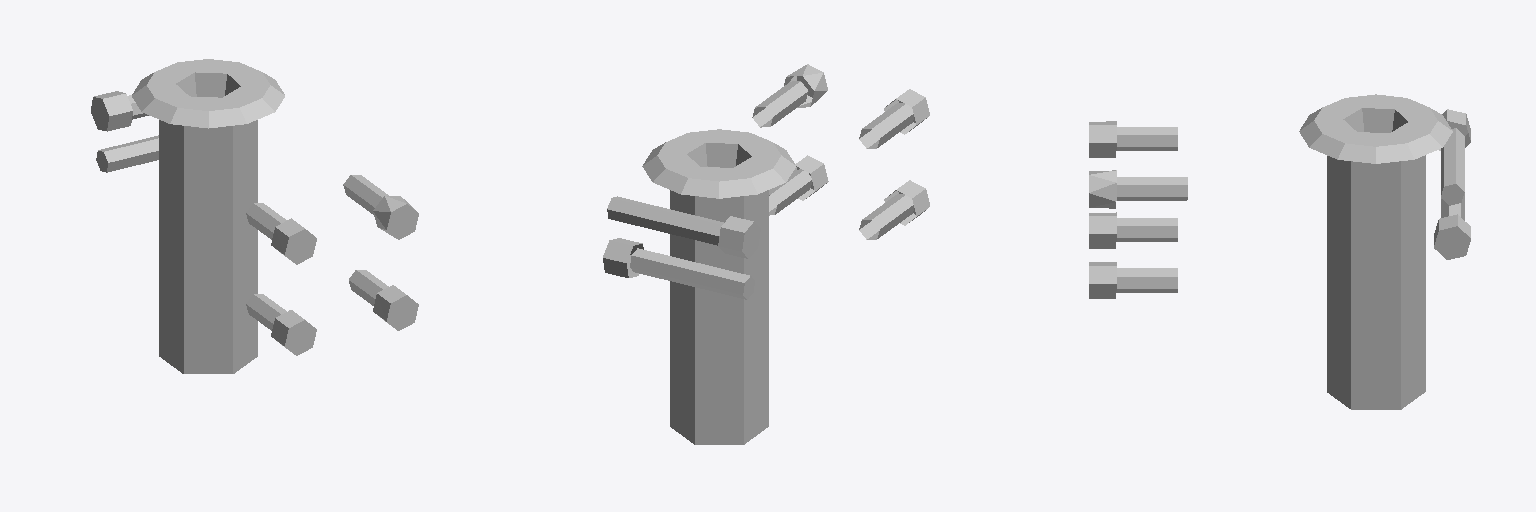
Rendered from Stem_01_Bolts_LOD1-sharedassets2.assets-317.obj.
3 renders of one model, left to right at view 1: azimuth 30°, elevation 25°; view 2: azimuth 150°, elevation 25°; view 3: azimuth 270°, elevation 25°, orthographic.
Visible parts, largest first — view 1: Stem_01_Bolts_LOD1_0; view 2: Stem_01_Bolts_LOD1_0; view 3: Stem_01_Bolts_LOD1_0.
Boxes of the visible parts, x1,y1,x2,y2 form: Stem_01_Bolts_LOD1_0: [91, 59, 418, 373]; Stem_01_Bolts_LOD1_0: [603, 64, 929, 444]; Stem_01_Bolts_LOD1_0: [1089, 94, 1470, 409].
Bounding box in the file's own units: 0.0359 × 0.0665 × 0.085.